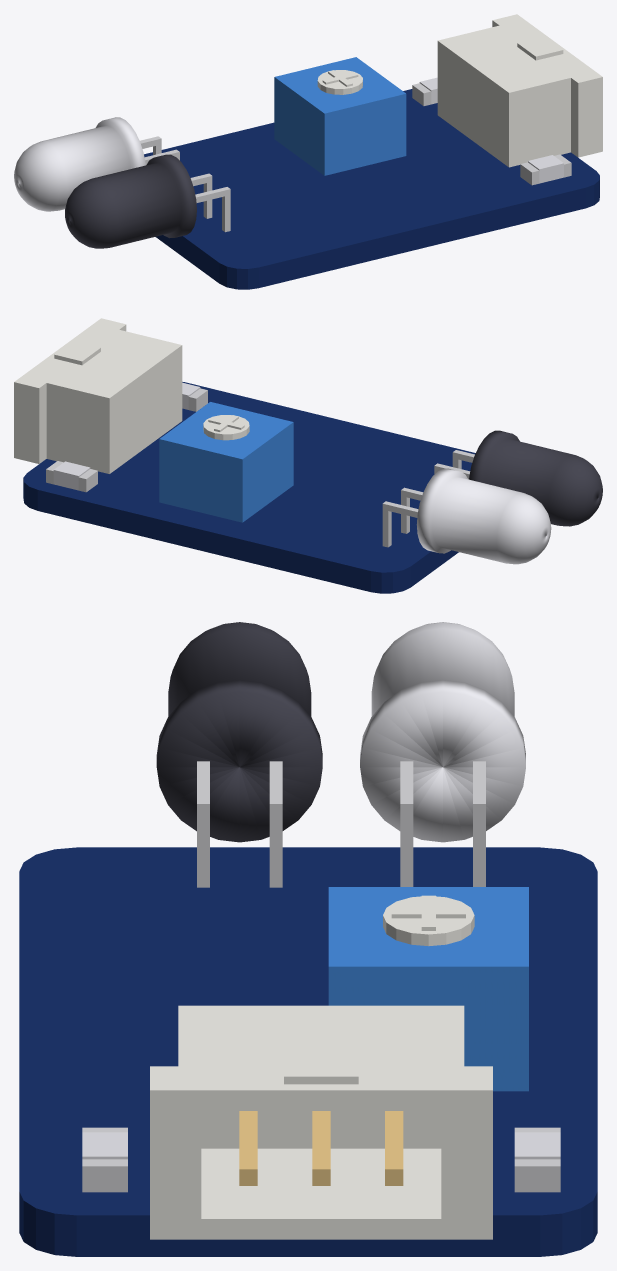
The picture shows the model from 3 angles, top to bottom: view 1: azimuth 30°, elevation 25°; view 2: azimuth 150°, elevation 25°; view 3: azimuth 270°, elevation 25°; orthographic projection. The views are drawn at different scales.
Parts seen in each view (by area): view 1: ir_pcb, ir_xh, ir_pot, ir_receiver, ir_ir_led, ir_receiver_legs, ir_pot_screw, ir_led_power, ir_led_power_ends, ir_ir_led_legs; view 2: ir_pcb, ir_xh, ir_pot, ir_ir_led, ir_receiver, ir_ir_led_legs, ir_pot_screw, ir_led_signal, ir_led_signal_ends, ir_receiver_legs; view 3: ir_pcb, ir_xh, ir_receiver, ir_ir_led, ir_pot, ir, ir_pot_screw, ir_receiver_legs, ir_ir_led_legs, ir_led_signal_ends, ir_led_power_ends, ir_led_signal (+1 smaller).
Boxes of the visible parts, <box> form: ir_pcb: <box>144,89,599,289</box>; ir_xh: <box>437,14,602,167</box>; ir_pot: <box>274,57,406,175</box>; ir_receiver: <box>65,154,196,248</box>; ir_ir_led: <box>14,117,145,211</box>; ir_receiver_legs: <box>190,173,230,232</box>; ir_pot_screw: <box>317,70,362,94</box>; ir_led_power: <box>528,155,563,183</box>; ir_led_power_ends: <box>520,154,571,185</box>; ir_ir_led_legs: <box>140,136,179,164</box>; ir_pcb: <box>23,382,475,593</box>; ir_xh: <box>14,318,182,473</box>; ir_pot: <box>159,402,293,522</box>; ir_ir_led: <box>416,468,551,564</box>; ir_receiver: <box>469,430,602,526</box>; ir_ir_led_legs: <box>382,487,423,547</box>; ir_pot_screw: <box>203,415,249,440</box>; ir_led_signal: <box>53,461,90,490</box>; ir_led_signal_ends: <box>46,461,97,492</box>; ir_receiver_legs: <box>434,450,474,479</box>; ir_pcb: <box>19,847,597,1256</box>; ir_xh: <box>150,1005,492,1239</box>; ir_receiver: <box>156,622,322,842</box>; ir_ir_led: <box>360,622,525,842</box>; ir_pot: <box>328,887,528,1091</box>; ir: <box>239,1111,403,1185</box>; ir_pot_screw: <box>383,895,474,946</box>; ir_receiver_legs: <box>197,761,282,887</box>; ir_ir_led_legs: <box>400,761,485,886</box>; ir_led_signal_ends: <box>514,1127,560,1192</box>; ir_led_power_ends: <box>82,1127,127,1192</box>; ir_led_signal: <box>514,1132,560,1159</box>.
Size of the model in its own units: 0.0412 by 0.00915 by 0.0202.
